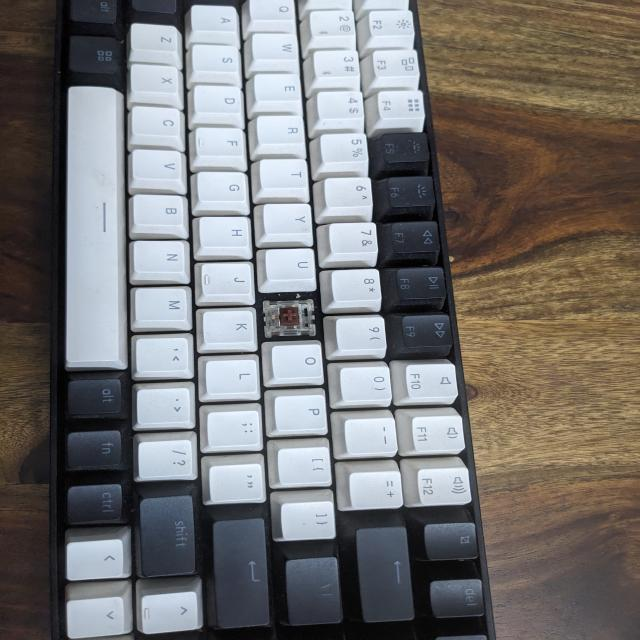C: (259, 297, 324, 345)
